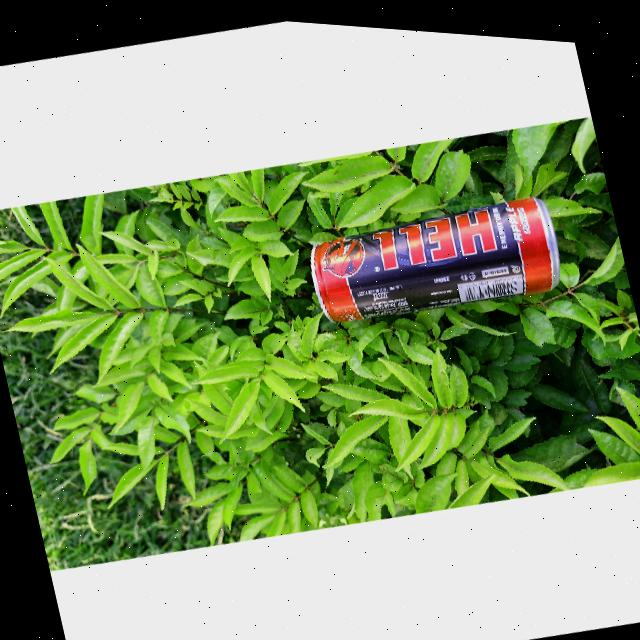Hell Apple: (296, 166, 572, 346)
